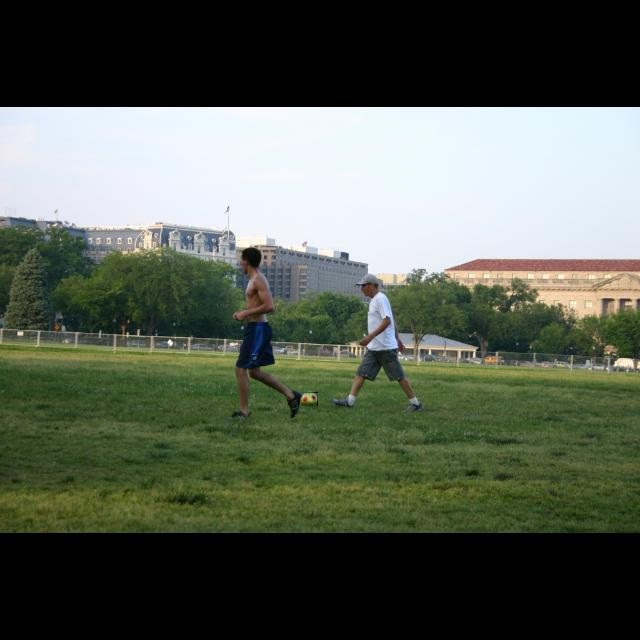Football: (300, 392, 318, 406)
